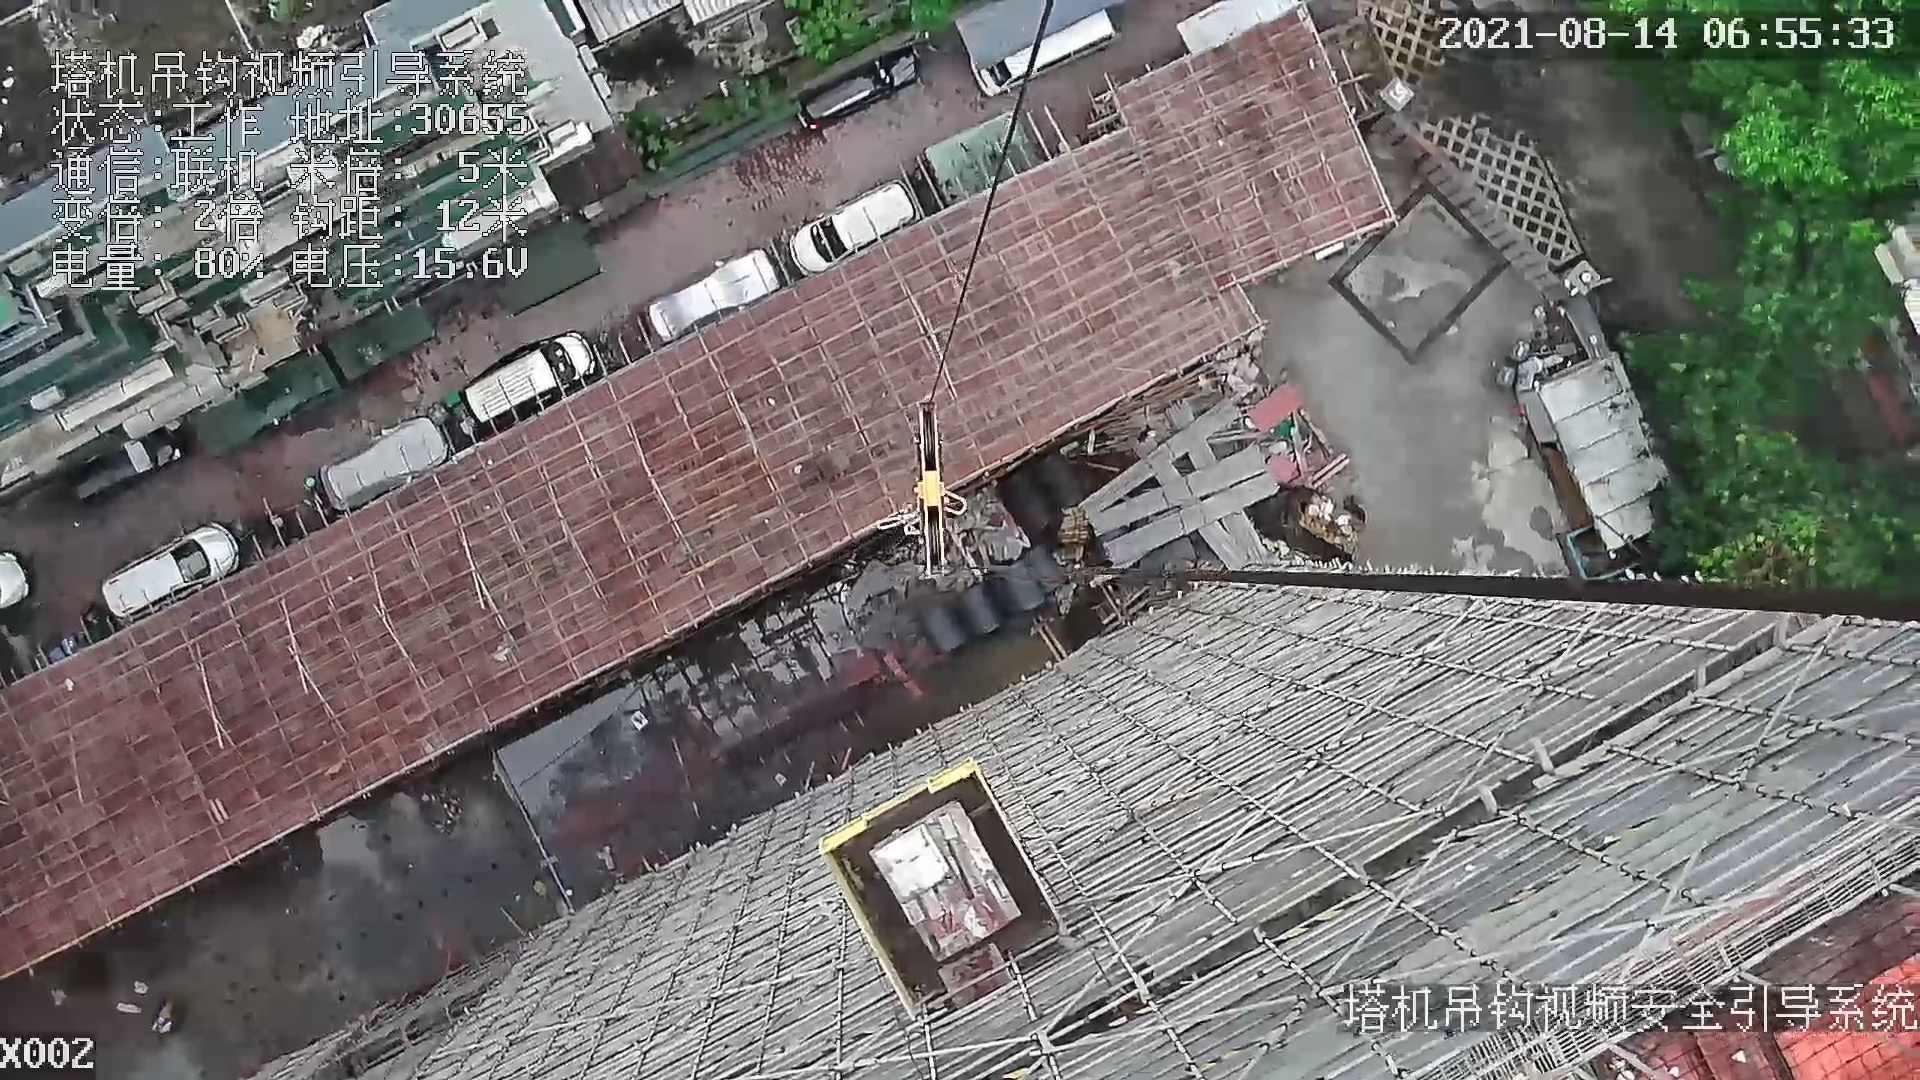board: (870, 800, 1023, 965)
hook: (899, 397, 972, 578)
rebar: (1079, 398, 1241, 517), (1089, 442, 1267, 538), (1104, 472, 1279, 568), (1195, 520, 1245, 570), (1222, 512, 1271, 563)
